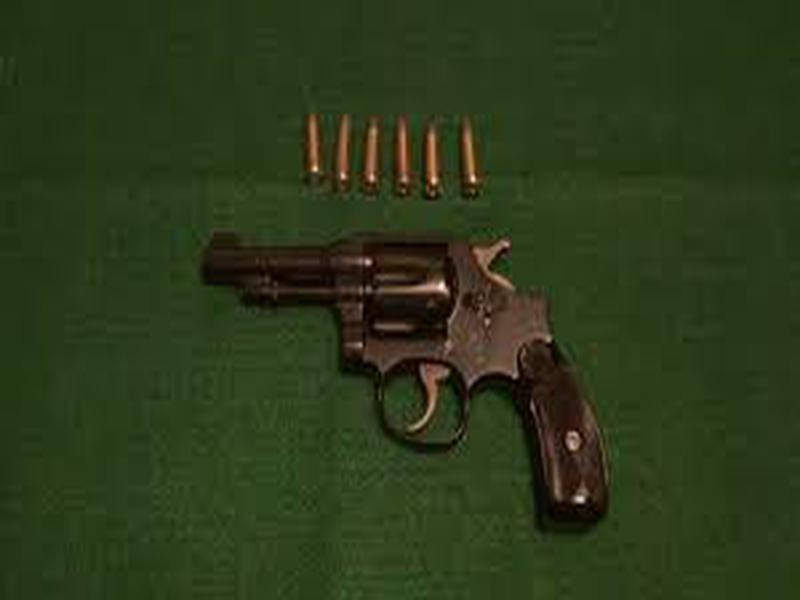gun: (197, 222, 627, 533)
